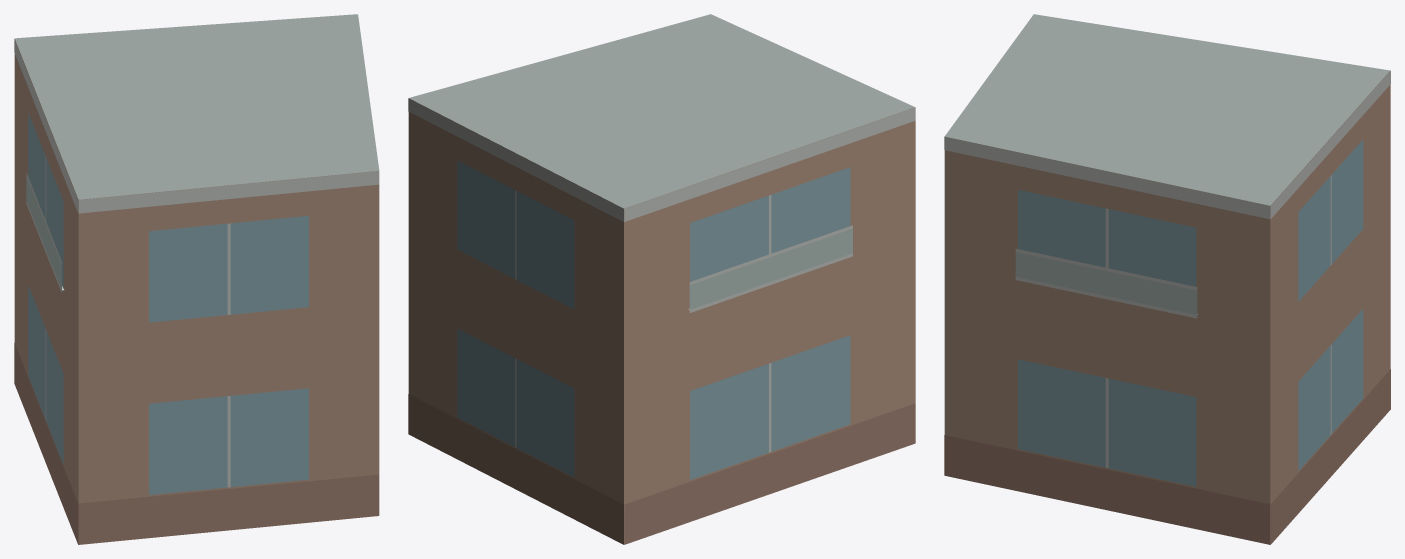
The model's file is survey-upis-32553038.glb.
The picture shows the model from 3 angles, left to right: view 1: azimuth 30°, elevation 25°; view 2: azimuth 150°, elevation 25°; view 3: azimuth 270°, elevation 25°; orthographic projection. The views are drawn at different scales.
Parts seen in each view (by area): view 1: survey-upis-32553038.tmp; view 2: survey-upis-32553038.tmp; view 3: survey-upis-32553038.tmp.
Boxes of the visible parts, bbox=[...] form: survey-upis-32553038.tmp: bbox=[14, 14, 379, 544]; survey-upis-32553038.tmp: bbox=[408, 14, 915, 544]; survey-upis-32553038.tmp: bbox=[944, 14, 1390, 544].
Size of the model in its own units: 7.41 by 6.1 by 7.29.
